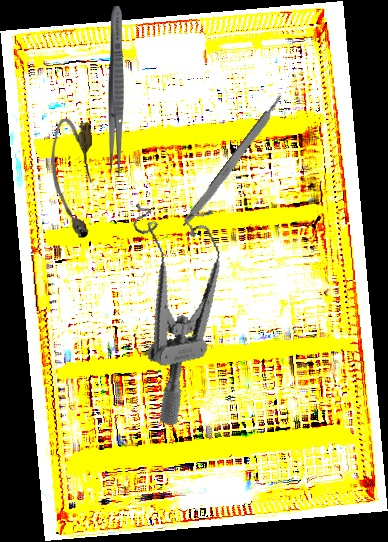Cannula: (49, 118, 96, 239)
Dressing Forceps: (108, 6, 125, 176)
Scalpel Handle: (180, 92, 288, 231)
Speculum: (115, 187, 255, 428)
